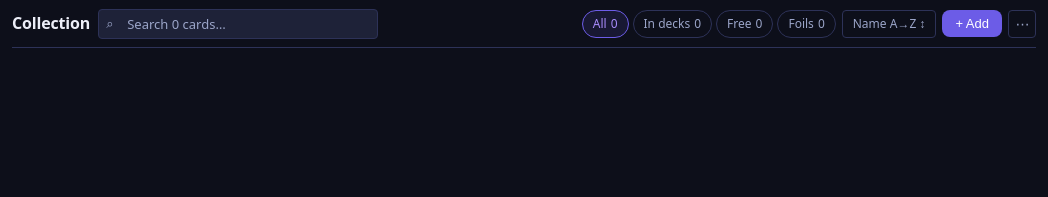
Test: Collection ⋯ menu — Trade calculator entry › sits below a separator, after the collection actions, with the sandbox helper line
The image size is (1048, 197).
Click the button named "More options".
click(1022, 24)  # box [1008,10,1036,38]
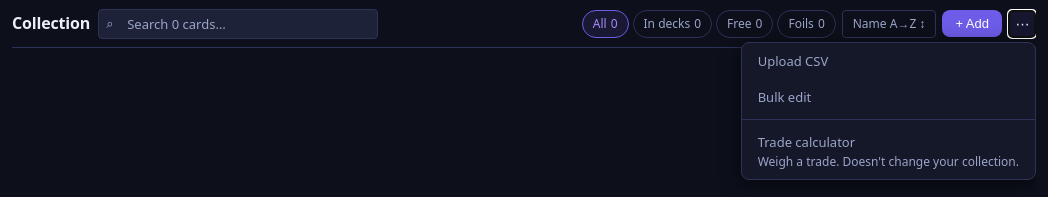
Now the text "Weigh a trade. Doesn't change your collection." is shown, box [758,152,1019,170]
